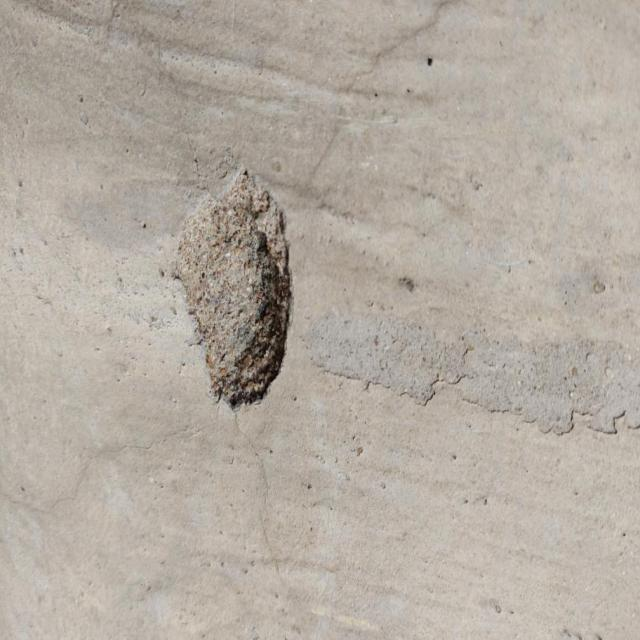concrete spalling: (172, 164, 293, 410)
